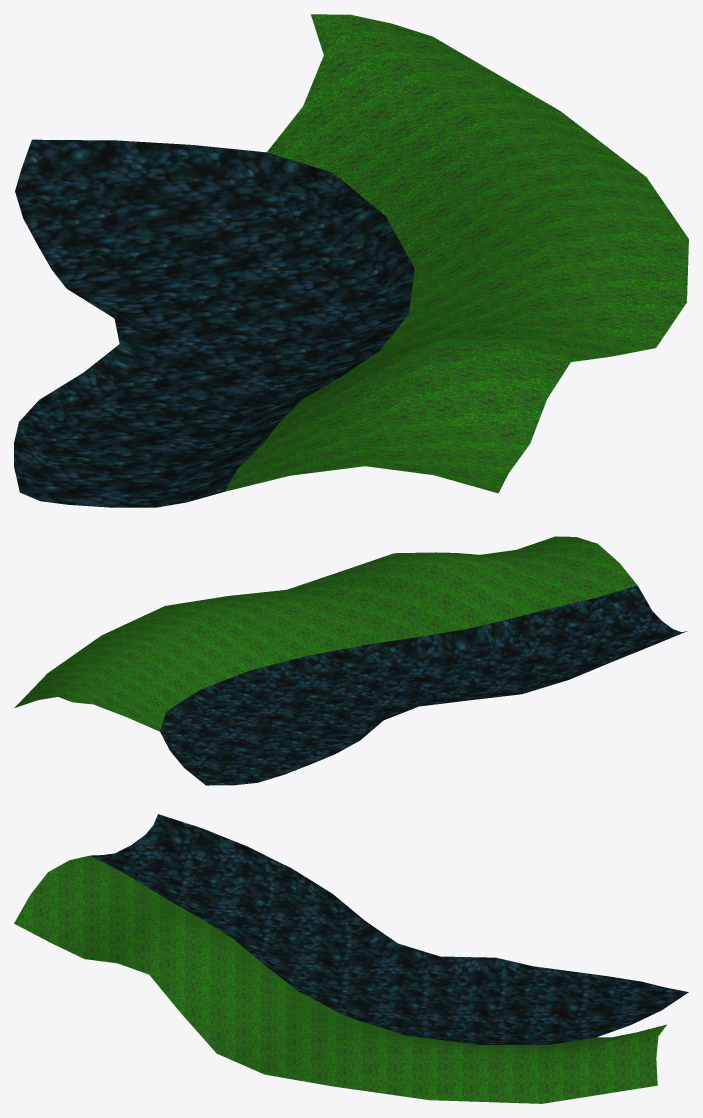
The model's file is HTOWN01_PS02.fbx.
3 views of the same model, one above another, from view 1: azimuth 30°, elevation 25°; view 2: azimuth 150°, elevation 25°; view 3: azimuth 270°, elevation 25° (orthographic). The views are drawn at different scales.
Visible parts, largest first — view 1: HTOWN01_PS02; view 2: HTOWN01_PS02; view 3: HTOWN01_PS02.
Boxes of the visible parts, box(x1,y1,x2,y2) form: HTOWN01_PS02: box(14, 14, 688, 507); HTOWN01_PS02: box(14, 536, 687, 785); HTOWN01_PS02: box(14, 814, 688, 1103).
Bounding box in the file's own units: 496090 × 63520 × 554584.
Materials: 2 (2 with a texture image).
